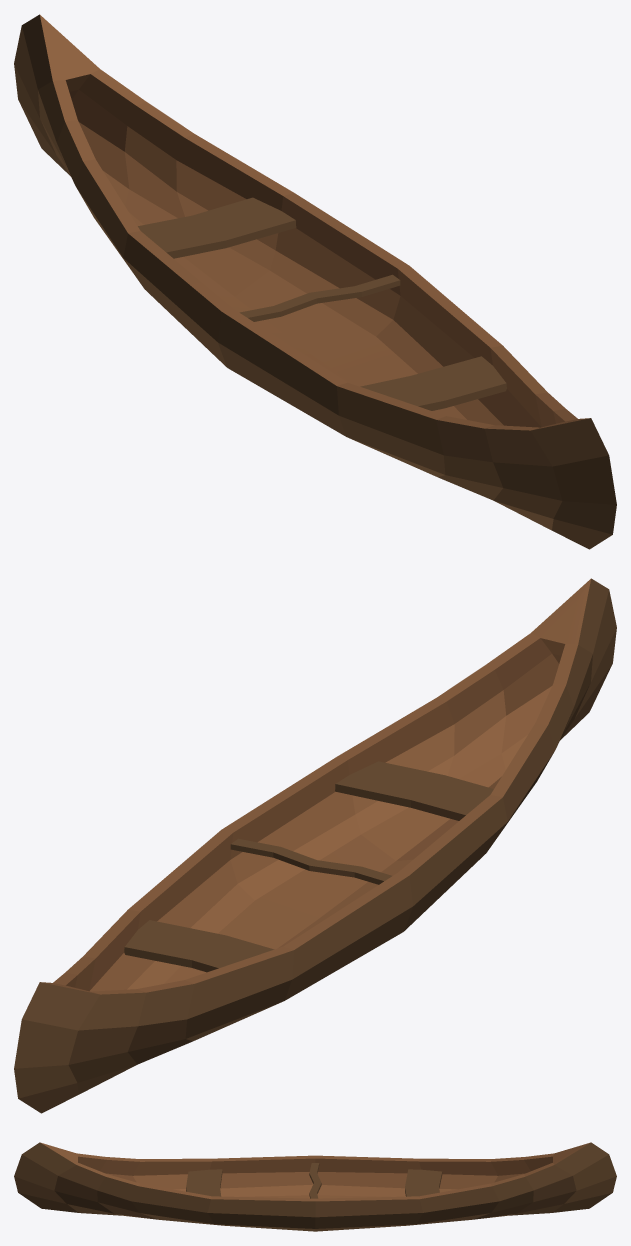
Rendered from western_canoe.fbx.
3 views of the same model, one above another, from view 1: azimuth 30°, elevation 25°; view 2: azimuth 150°, elevation 25°; view 3: azimuth 270°, elevation 25° (orthographic). The views are drawn at different scales.
Visible parts, largest first — view 1: western_canoe; view 2: western_canoe; view 3: western_canoe.
Boxes of the visible parts, left/top/right/bottom form: western_canoe: left=14, top=14, right=616, bottom=549; western_canoe: left=14, top=578, right=616, bottom=1113; western_canoe: left=14, top=1142, right=616, bottom=1231.
Size of the model in its own units: 37.44 by 28.01 by 200.
